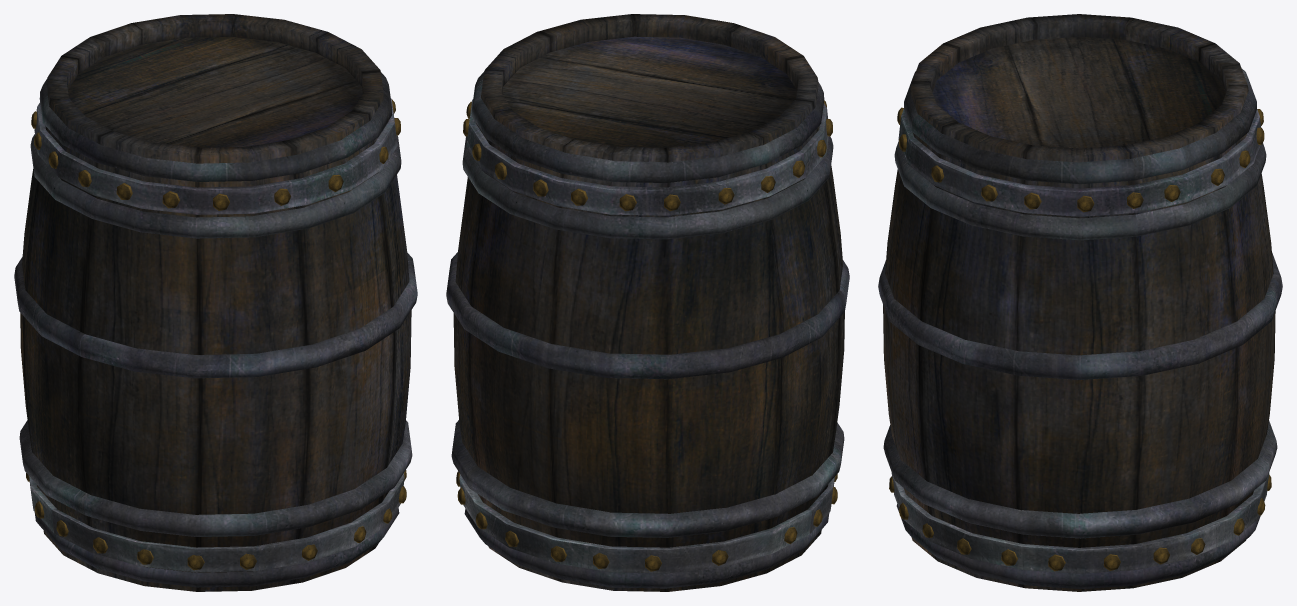
The model's file is Big_old_barrel.FBX.
3 renders of one model, left to right at view 1: azimuth 30°, elevation 25°; view 2: azimuth 150°, elevation 25°; view 3: azimuth 270°, elevation 25°, orthographic.
Visible parts, largest first — view 1: Big_old_barrel; view 2: Big_old_barrel; view 3: Big_old_barrel.
Boxes of the visible parts, x1,y1,x2,y2 form: Big_old_barrel: (14, 14, 417, 591); Big_old_barrel: (446, 14, 849, 591); Big_old_barrel: (878, 14, 1282, 591).
Size of the model in its own units: 40.16 by 47.32 by 40.11.
